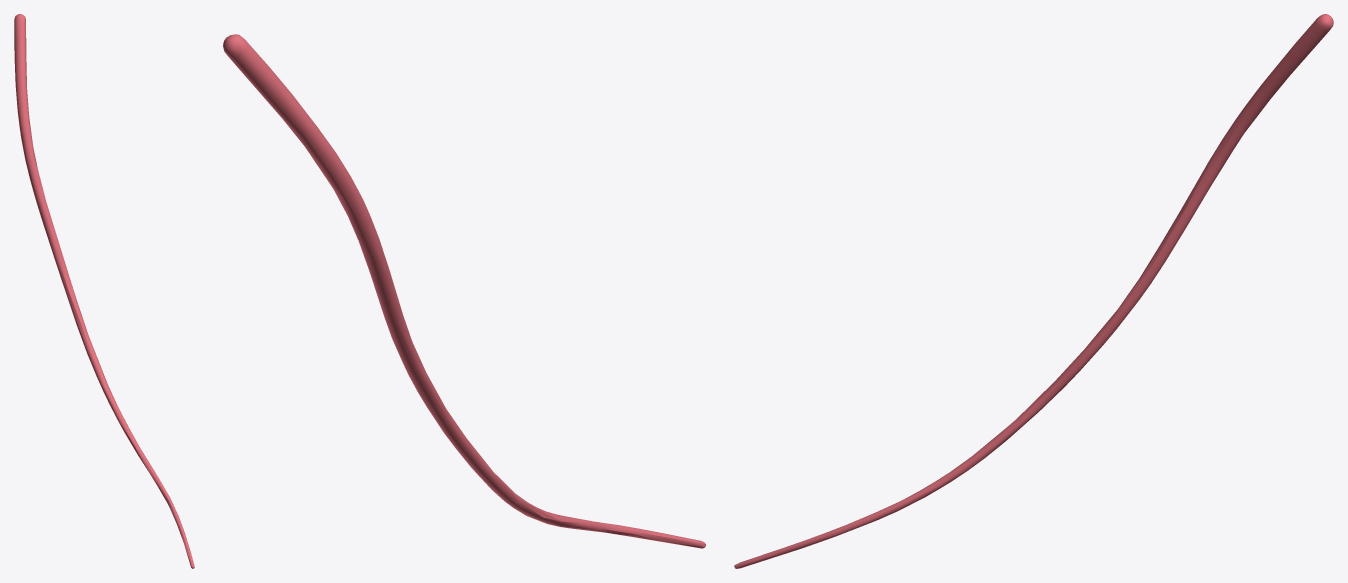
Rendered from fma85101_fj2327.glb.
The picture shows the model from 3 angles, left to right: view 1: azimuth 30°, elevation 25°; view 2: azimuth 150°, elevation 25°; view 3: azimuth 270°, elevation 25°; orthographic projection. The views are drawn at different scales.
Visible parts, largest first — view 1: FMA85101_FJ2327; view 2: FMA85101_FJ2327; view 3: FMA85101_FJ2327.
Boxes of the visible parts, left/top/right/bottom form: FMA85101_FJ2327: left=14, top=14, right=194, bottom=568; FMA85101_FJ2327: left=223, top=34, right=705, bottom=548; FMA85101_FJ2327: left=734, top=14, right=1333, bottom=568.
Bounding box in the file's own units: 0.00519 × 0.053 × 0.05.
